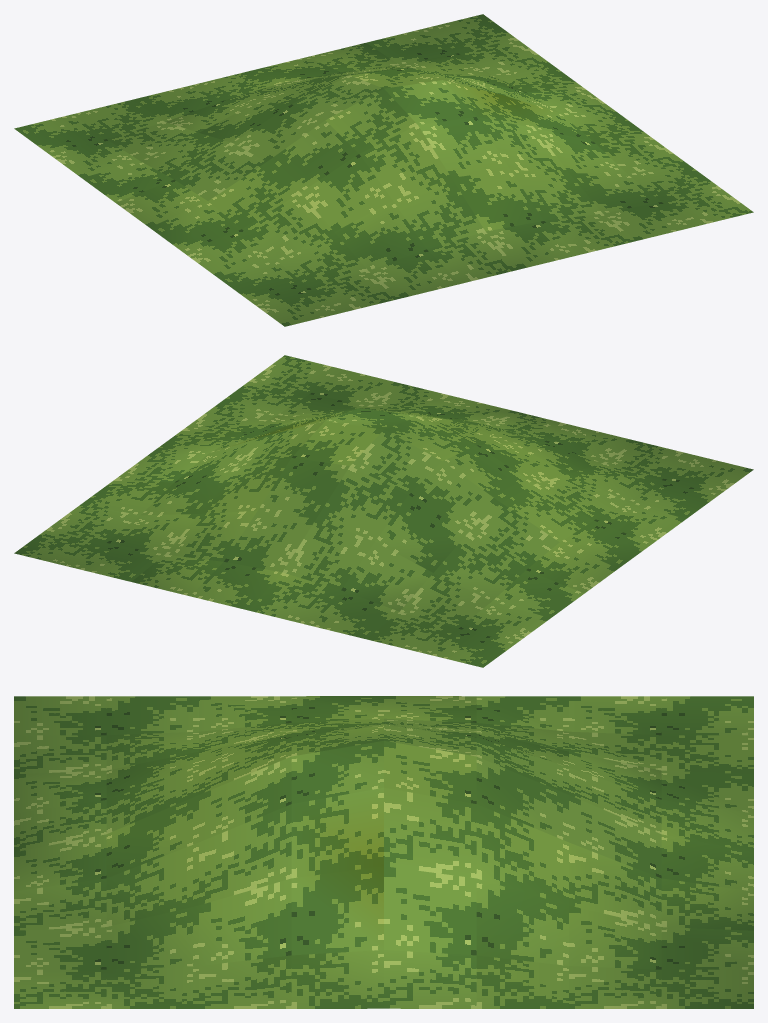
Rendered from mter.hill__low.glb.
The picture shows the model from 3 angles, top to bottom: view 1: azimuth 30°, elevation 25°; view 2: azimuth 150°, elevation 25°; view 3: azimuth 270°, elevation 25°; orthographic projection. The views are drawn at different scales.
Visible parts, largest first — view 1: kit_shell_hill; view 2: kit_shell_hill; view 3: kit_shell_hill.
Boxes of the visible parts, x1=… form: kit_shell_hill: x1=14, y1=14, x2=753, y2=326; kit_shell_hill: x1=14, y1=355, x2=753, y2=667; kit_shell_hill: x1=14, y1=696, x2=753, y2=1008.
Size of the model in its own units: 12 by 2 by 12.
Materials: 1 (1 with a texture image).
